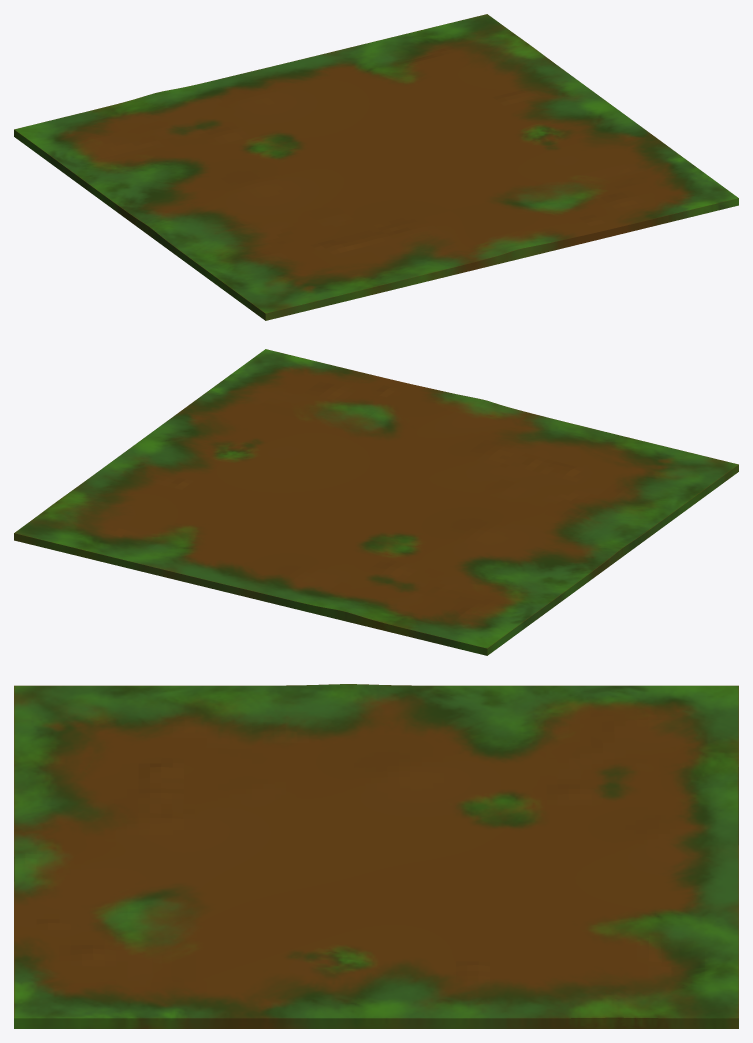
The model's file is Tanah.fbx.
3 views of the same model, one above another, from view 1: azimuth 30°, elevation 25°; view 2: azimuth 150°, elevation 25°; view 3: azimuth 270°, elevation 25° (orthographic). The views are drawn at different scales.
Visible parts, largest first — view 1: Tanah; view 2: Tanah; view 3: Tanah.
Boxes of the visible parts, <box> form: Tanah: <box>14,14,738,320</box>; Tanah: <box>14,349,738,655</box>; Tanah: <box>14,684,738,1028</box>.
Size of the model in its own units: 67.92 by 1.38 by 62.56.
